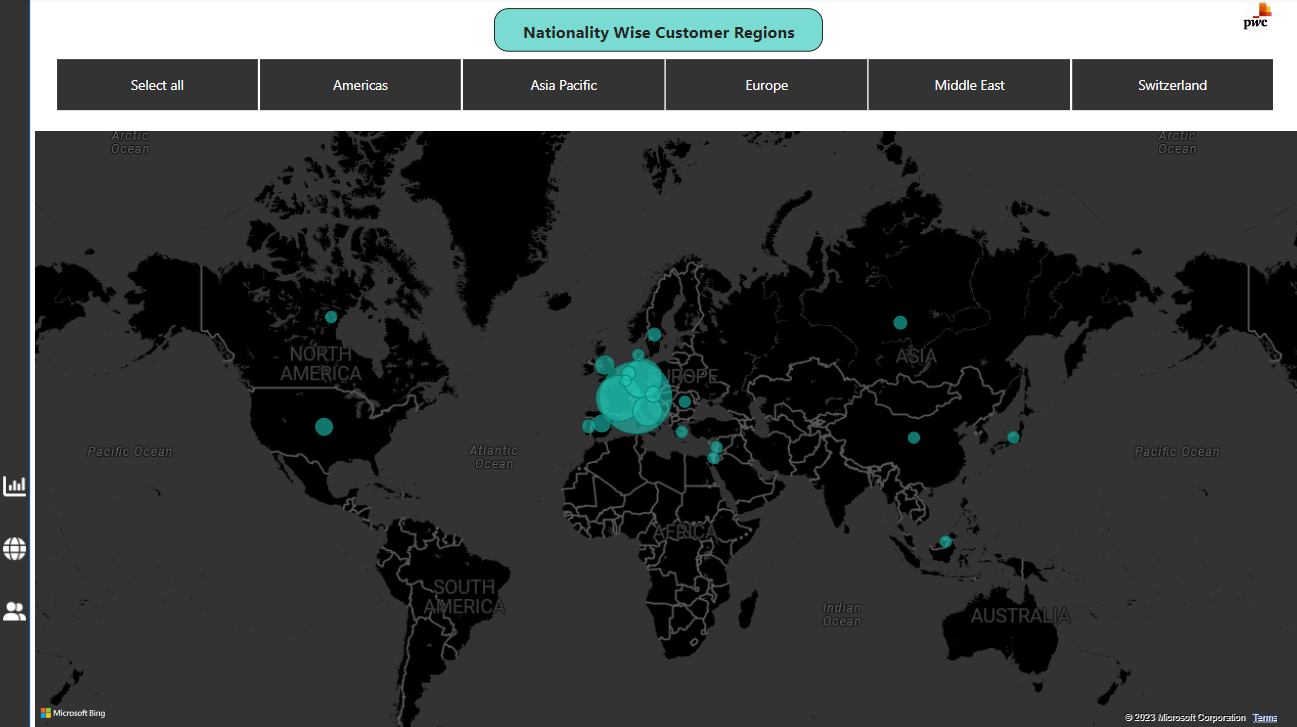

What the dashboard file says about the page in this screenshot:
{"tool":"powerbi","page":{"name":"Nationality","canvas":[1280,720],"ordinal":1},"visuals":[{"type":"shape","box":[0,0,30.6,720],"z":0},{"type":"map","fields":{"Size":["CountNonNull(Pharma Group AG.Employee ID)"],"Category":["Pharma Group AG.Nationality 1"]},"box":[30.6,125.9,1249.3,594.1],"z":1000},{"type":"slicer","fields":{"Values":["Pharma Group AG.Region group: nationality 1"]},"box":[30.6,53.8,1239.5,63.6],"z":2000},{"type":"textbox","box":[484.1,11,321.5,42.8],"z":3000},{"type":"actionButton","box":[0,458.4,30.6,40.3],"z":4000},{"type":"actionButton","box":[0,519.5,30.6,40.3],"z":5000},{"type":"actionButton","box":[0,580.6,30.6,40.3],"z":6000},{"type":"image","box":[1180.8,0,99,37.9],"z":7000}]}

Visuals, with their boxes in screenshot pixels (x1, y1, x2, y2), scaled from the page's 1280x720 canvas onto the 1297x727 screenshot:
shape: (0, 0, 31, 726)
map - CountNonNull(Pharma Group AG.Employee ID) x Pharma Group AG.Nationality 1: (31, 127, 1296, 726)
slicer - Pharma Group AG.Region group: nationality 1: (31, 54, 1287, 119)
textbox: (491, 11, 816, 54)
actionButton: (0, 463, 31, 504)
actionButton: (0, 525, 31, 565)
actionButton: (0, 586, 31, 627)
image: (1196, 0, 1296, 38)
